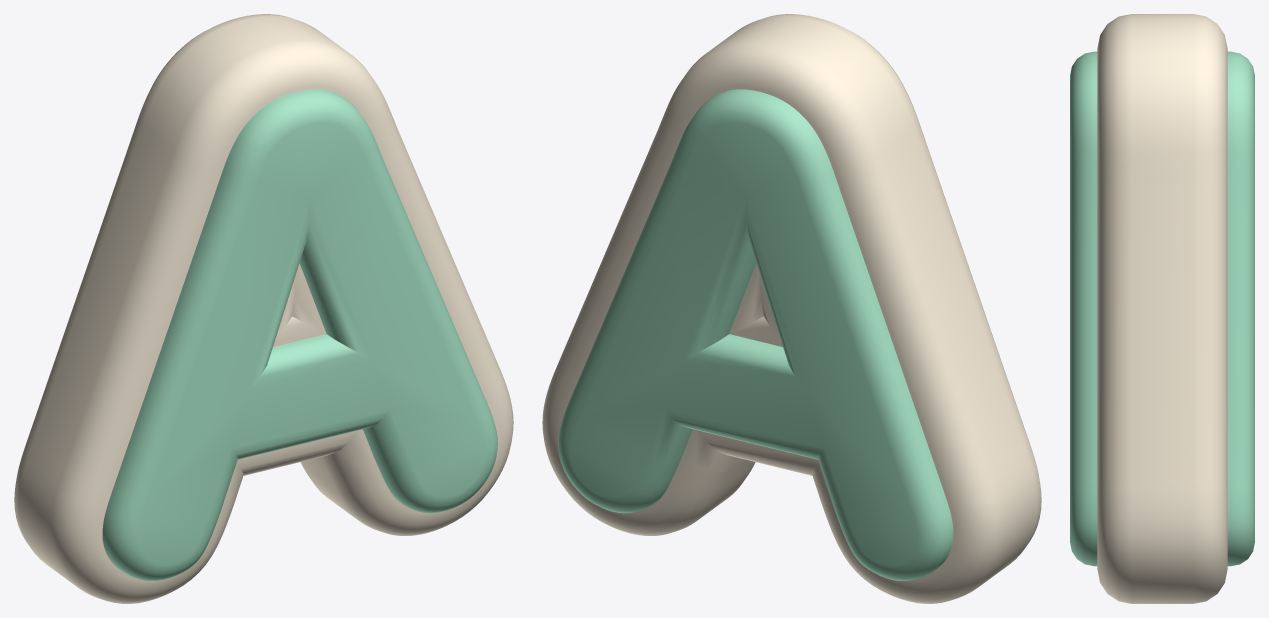
The model's file is candy_letter_A.glb.
The picture shows the model from 3 angles, left to right: view 1: azimuth 30°, elevation 25°; view 2: azimuth 150°, elevation 25°; view 3: azimuth 270°, elevation 25°; orthographic projection. The views are drawn at different scales.
Visible parts, largest first — view 1: candy_letter_A; view 2: candy_letter_A; view 3: candy_letter_A.
Boxes of the visible parts, x1,y1,x2,y2 form: candy_letter_A: (14,14,513,603); candy_letter_A: (542,14,1041,603); candy_letter_A: (1070,14,1254,603).
Size of the model in its own units: 0.735 by 0.8 by 0.2667.
